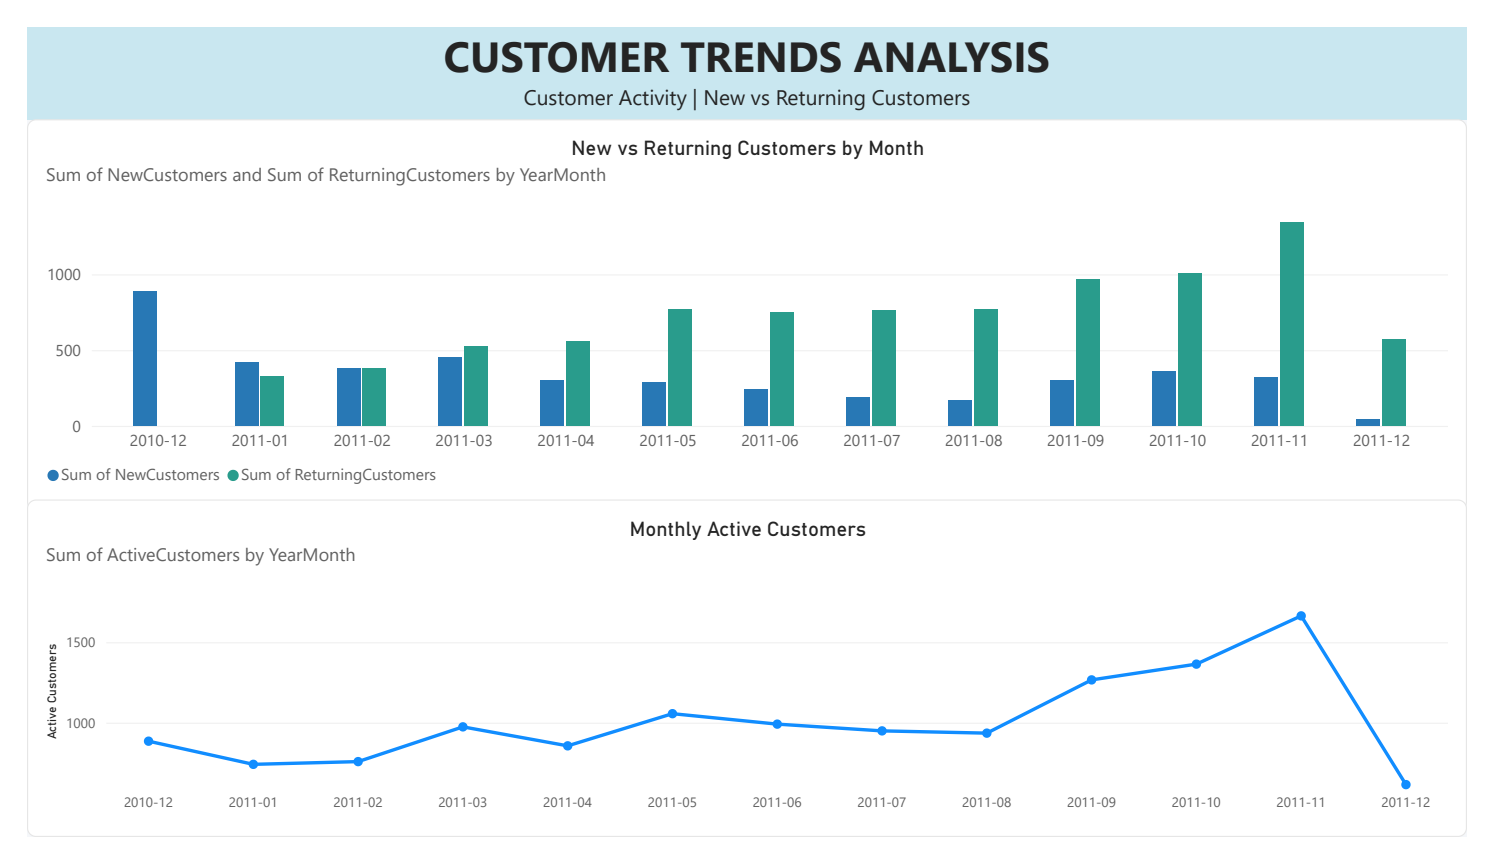

This screenshot's page, from the dashboard's own definition file:
{"tool":"powerbi","page":{"name":"03 - Customer Trends","canvas":[1280,720],"ordinal":2},"visuals":[{"type":"textbox","box":[10,570,342,150],"z":5000},{"type":"textbox","box":[0,0,1280,82],"z":6000},{"type":"clusteredColumnChart","title":"New vs Returning Customers by Month","fields":{"Category":["vw_monthly_customer_activity (2).YearMonth"],"Y":["Sum(vw_monthly_customer_activity (2).NewCustomers)","Sum(vw_monthly_customer_activity (2).ReturningCustomers)"]},"box":[0,81.7,1280,348.3],"z":6001},{"type":"lineChart","title":"\tMonthly Active Customers","fields":{"Category":["vw_monthly_customer_activity (2).YearMonth"],"Y":["Sum(vw_monthly_customer_activity (2).ActiveCustomers)"]},"box":[0,420,1280,300],"z":6002}]}

Visuals, with their boxes in screenshot pixels (x1, y1, x2, y2), scaled from the page's 1280x720 canvas onto the 1494x864 screenshot:
textbox: x1=12, y1=684, x2=411, y2=863
textbox: x1=0, y1=0, x2=1493, y2=98
"New vs Returning Customers by Month" clusteredColumnChart: x1=0, y1=98, x2=1493, y2=516
"	Monthly Active Customers" lineChart: x1=0, y1=504, x2=1493, y2=863
